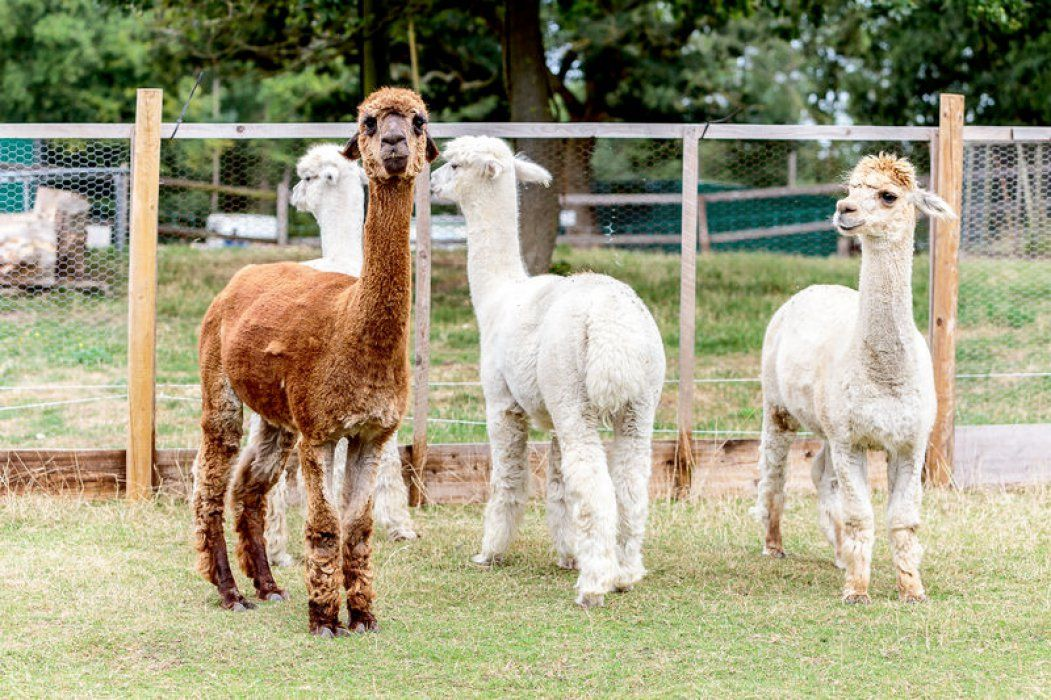alpaca: (191, 87, 434, 640), (428, 133, 667, 608), (757, 146, 962, 608)
